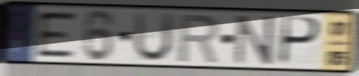6: (82, 8, 115, 63)
E: (36, 10, 79, 59)
N: (233, 14, 278, 66)
P: (276, 14, 323, 68)
R: (177, 12, 222, 64)
U: (131, 11, 176, 64)
